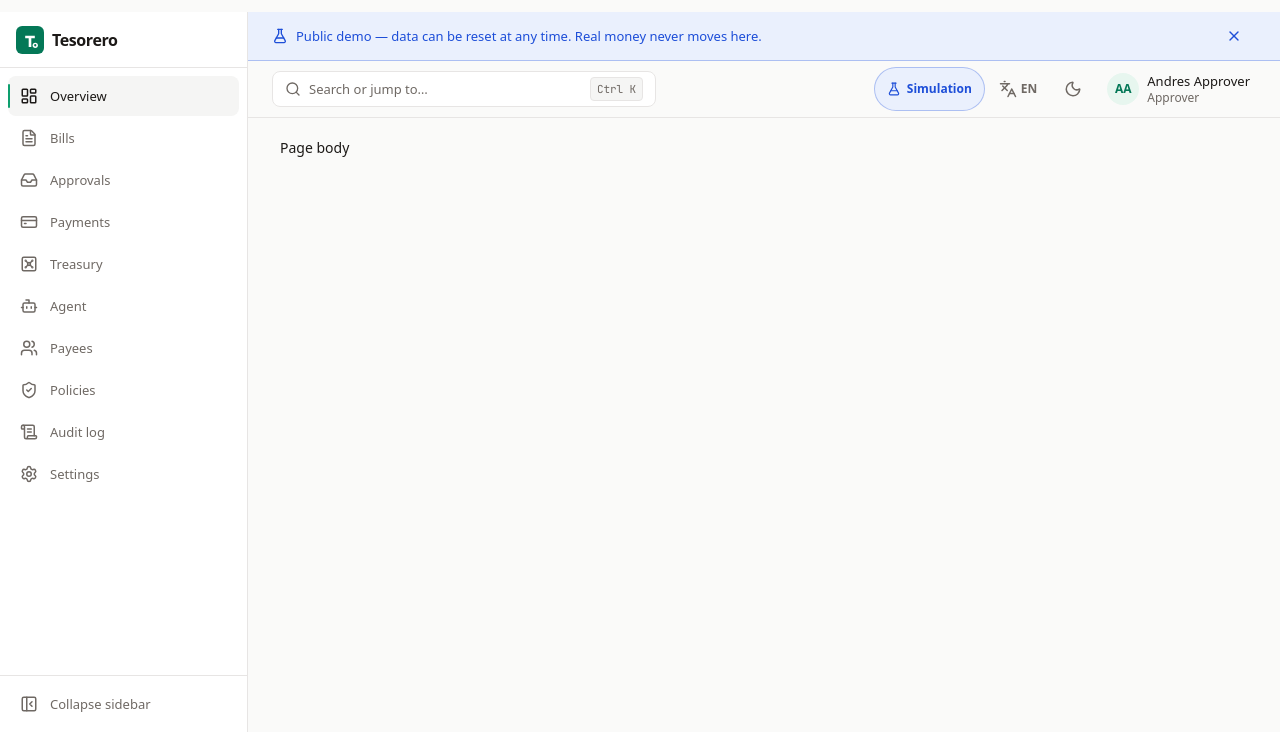
Test case: demo banner › is shown on the public demo and can be dismissed for the session
Expected: the element with test id "demo-banner" reads "Public demo — data can be reset at any time. Real money never moves here.", [296, 27, 762, 45]
Click the button with test id "demo-banner-dismiss" at (1234, 36), box [1212, 14, 1256, 58]
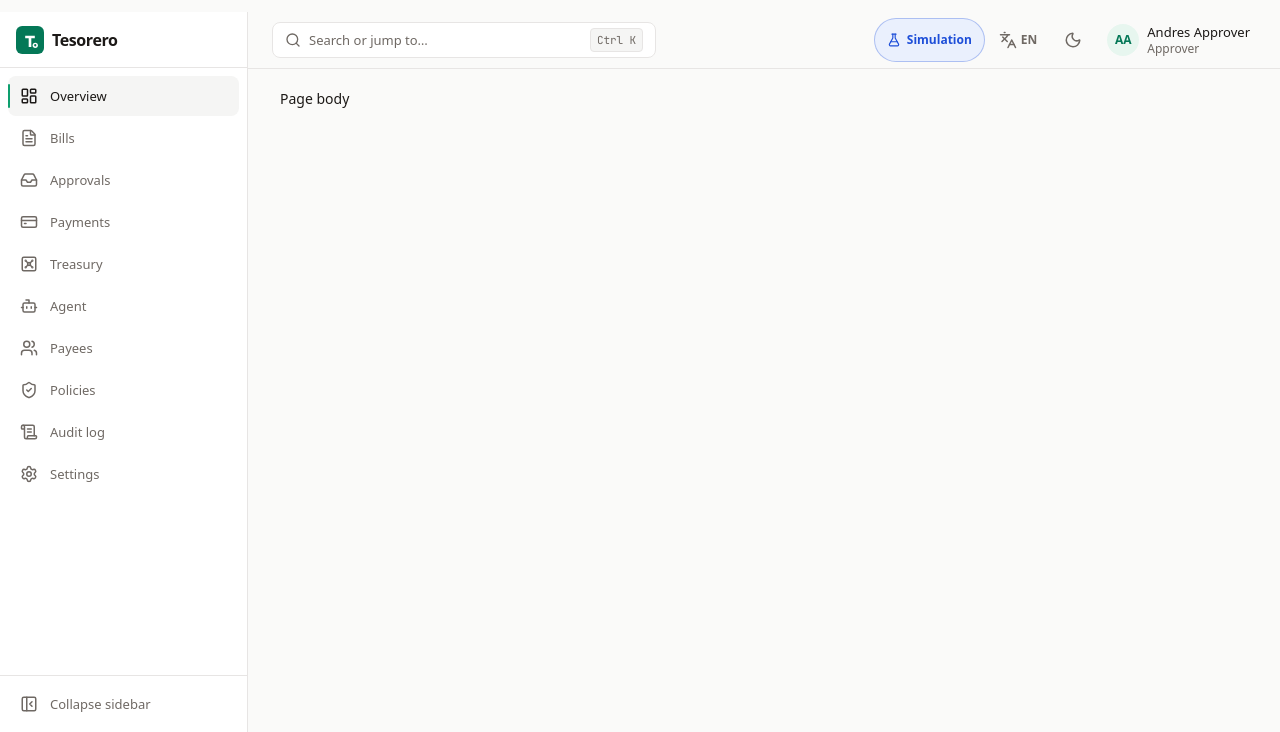
Expected: the element with test id "demo-banner" is gone
